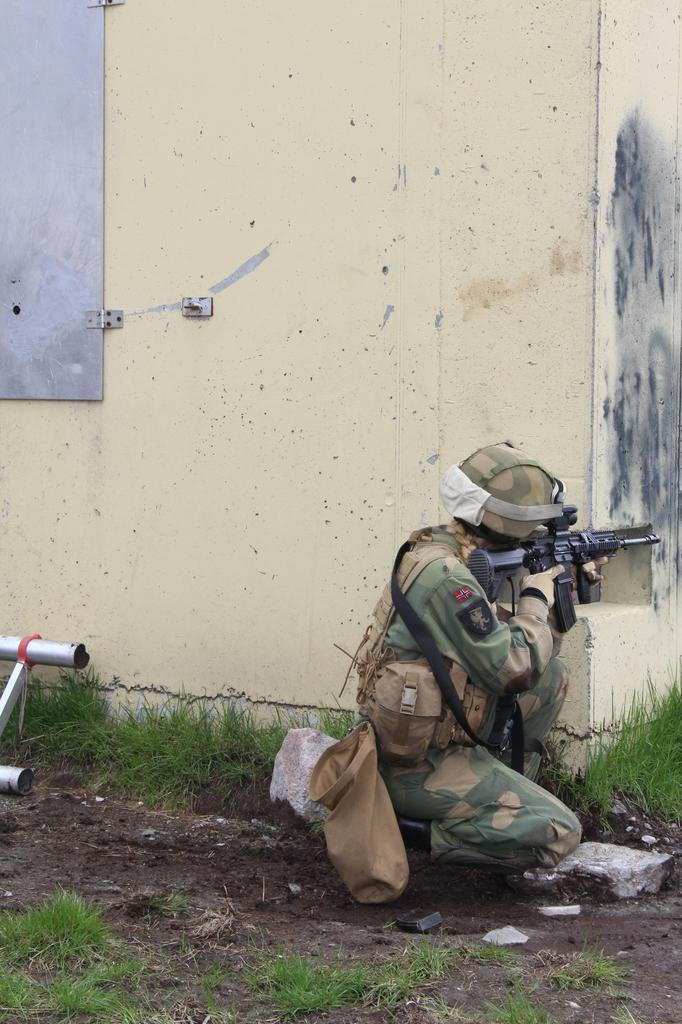Rifle: (468, 531, 653, 628)
